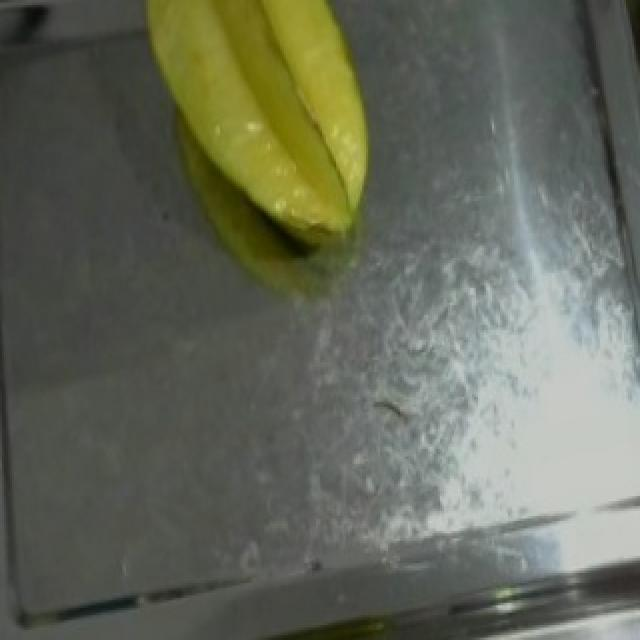fruit: (112, 0, 406, 268)
